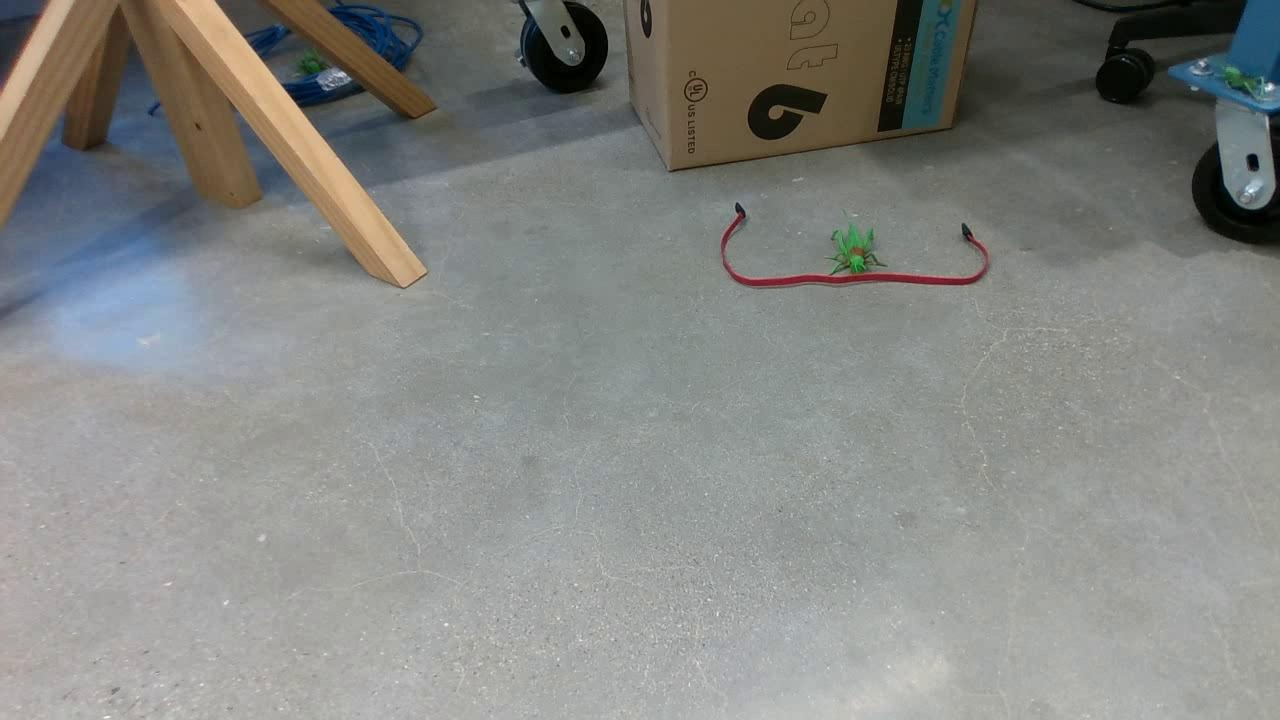grasshopper: (822, 223, 892, 274), (298, 44, 329, 77)
